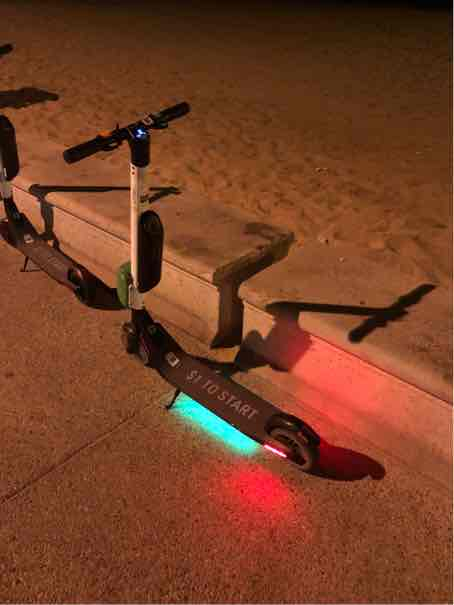scooter: (55, 93, 331, 479)
